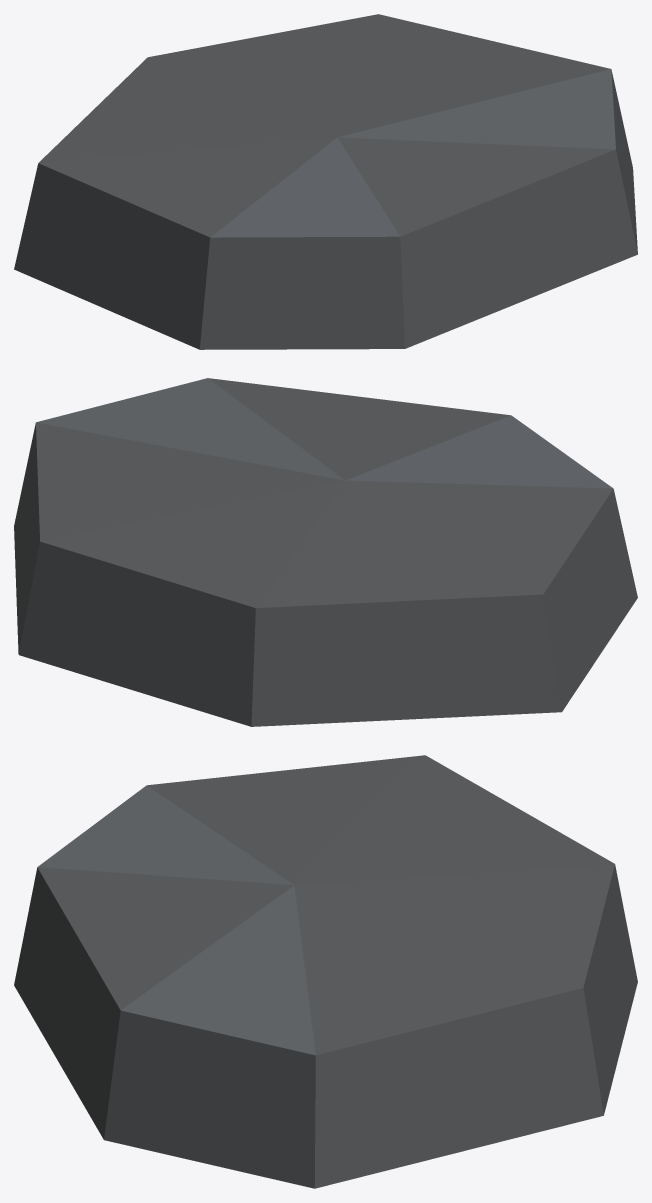
File: SM_Arena_Slab_B.fbx
3 renders of one model, top to bottom at view 1: azimuth 30°, elevation 25°; view 2: azimuth 150°, elevation 25°; view 3: azimuth 270°, elevation 25°, orthographic. The views are drawn at different scales.
Parts seen in each view (by area): view 1: SM_Arena_Slab_B; view 2: SM_Arena_Slab_B; view 3: SM_Arena_Slab_B.
Boxes of the visible parts, x1,y1,x2,y2 form: SM_Arena_Slab_B: (14,14,637,349); SM_Arena_Slab_B: (14,378,637,726); SM_Arena_Slab_B: (14,755,637,1188).
Size of the model in its own units: 0.8034 by 0.15 by 0.6532.
